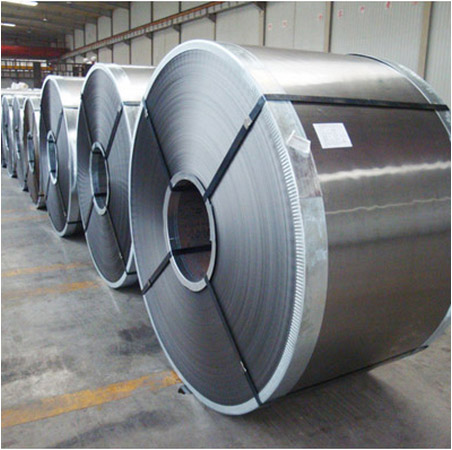steel-coil: (19, 75, 439, 375), (138, 38, 436, 381)
